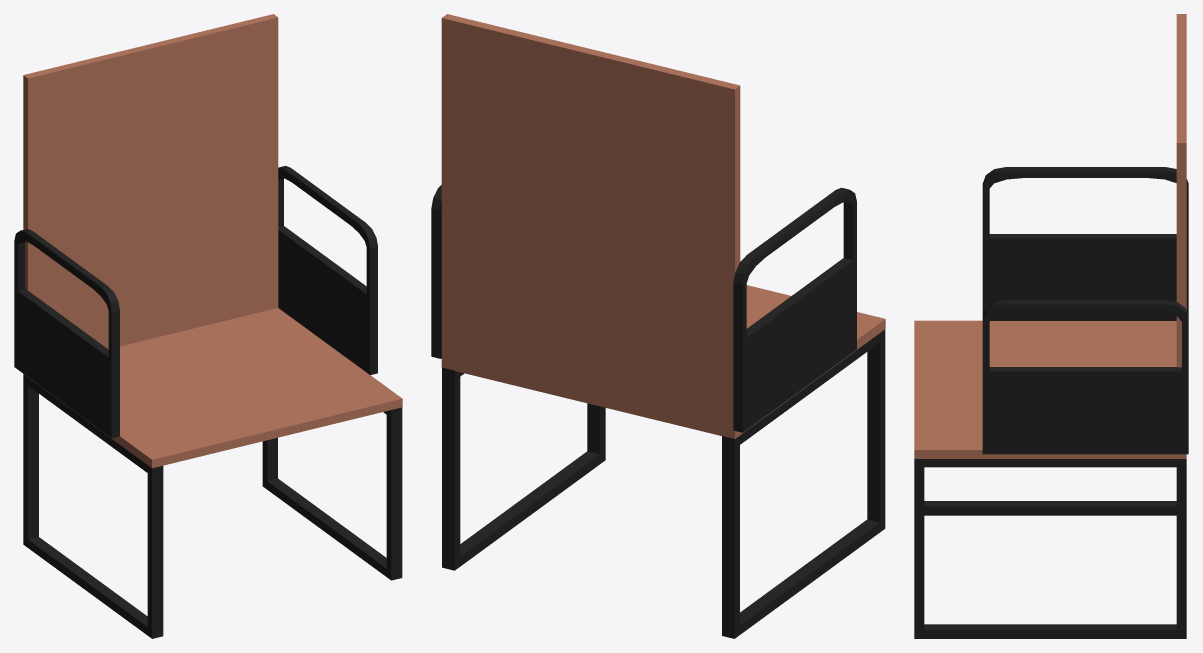
File: chair.glb
The picture shows the model from 3 angles, left to right: view 1: azimuth 30°, elevation 25°; view 2: azimuth 150°, elevation 25°; view 3: azimuth 270°, elevation 25°; orthographic projection. The views are drawn at different scales.
Visible parts, largest first — view 1: Cube.010; view 2: Cube.010; view 3: Cube.010.
Part boxes in pixels (x1=…): Cube.010: x1=14, y1=14, x2=402, y2=638; Cube.010: x1=431, y1=14, x2=885, y2=638; Cube.010: x1=914, y1=14, x2=1188, y2=638.
Bounding box in the file's own units: 0.978 × 1.65 × 0.8261.
